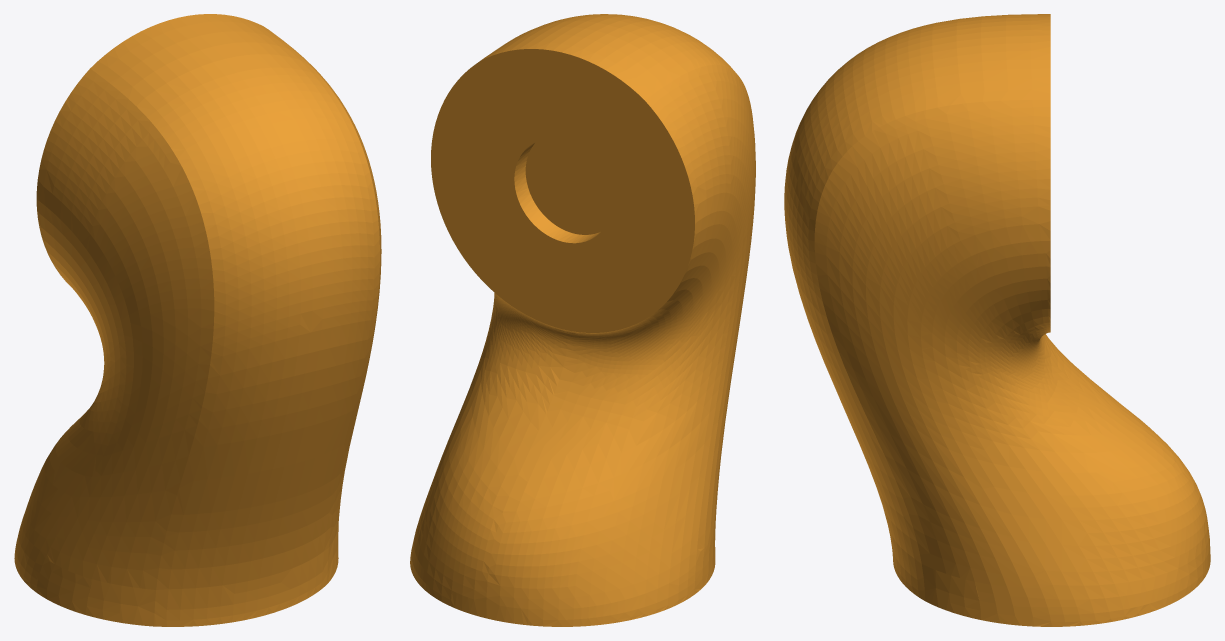
The picture shows the model from 3 angles, left to right: view 1: azimuth 30°, elevation 25°; view 2: azimuth 150°, elevation 25°; view 3: azimuth 270°, elevation 25°; orthographic projection. The views are drawn at different scales.
Visible parts, largest first — view 1: Link 1; view 2: Link 1; view 3: Link 1.
Boxes of the visible parts, <box> form: Link 1: <box>14,14,381,626</box>; Link 1: <box>410,14,755,626</box>; Link 1: <box>784,14,1210,626</box>.
Bounding box in the file's own units: 0.136 × 0.1826 × 0.261.
